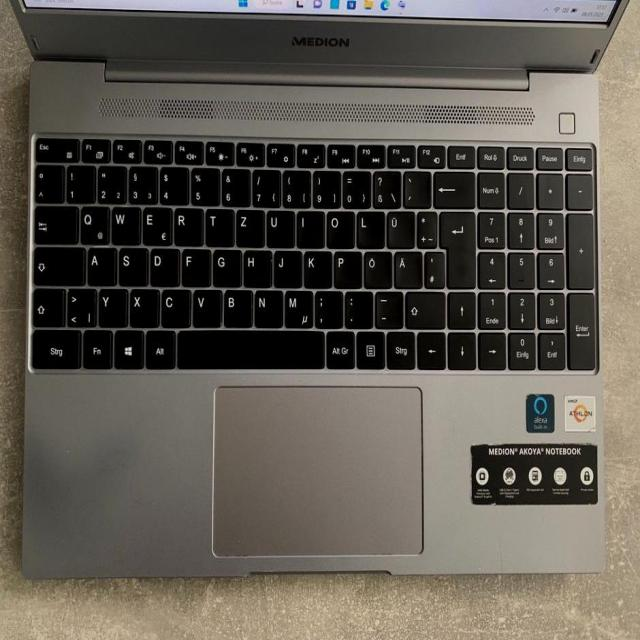0: (340, 167, 368, 206)
1: (64, 161, 93, 201)
2: (95, 162, 125, 201)
3: (126, 162, 155, 202)
4: (157, 163, 187, 202)
5: (189, 164, 217, 203)
6: (220, 165, 248, 204)
7: (250, 166, 278, 206)
8: (280, 167, 308, 206)
9: (311, 167, 339, 207)
a: (84, 243, 114, 284)
accent: (401, 167, 428, 205)
ae: (392, 247, 420, 286)
alt-left: (142, 326, 174, 367)
altgr-right: (324, 327, 353, 367)
b: (221, 286, 251, 326)
c: (158, 285, 189, 325)
caret: (32, 160, 61, 201)
comma: (312, 287, 340, 326)
d: (147, 244, 177, 285)
del: (431, 167, 472, 205)
e: (140, 203, 170, 243)
enter: (437, 207, 474, 286)
f: (178, 245, 208, 284)
g: (210, 245, 238, 284)
h: (240, 247, 269, 285)
hash: (422, 247, 442, 286)
i: (294, 207, 322, 245)
j: (271, 246, 299, 285)
k: (301, 247, 329, 286)
keyboard: (23, 127, 601, 377)
l: (331, 247, 359, 286)
less: (64, 284, 94, 326)
m: (281, 286, 311, 326)
minus: (372, 287, 400, 326)
n: (251, 286, 280, 326)
o: (323, 207, 352, 246)
oe: (361, 247, 389, 286)
p: (354, 207, 382, 246)
plus: (415, 206, 434, 245)
point: (342, 287, 370, 326)
q: (77, 202, 107, 243)
r: (171, 204, 201, 244)
s: (115, 244, 145, 284)
shift-left: (29, 284, 62, 326)
shift-lock: (31, 242, 82, 284)
shift-right: (403, 287, 443, 326)
space: (175, 327, 322, 367)
ss: (371, 167, 399, 206)
strg-left: (27, 326, 80, 368)
strg-right: (384, 328, 413, 367)
t: (203, 205, 231, 244)
tab: (31, 201, 76, 242)
u: (264, 207, 292, 246)
ue: (384, 207, 413, 246)
v: (190, 285, 219, 325)
w: (108, 202, 138, 243)
x: (127, 285, 157, 325)
y: (96, 285, 125, 326)
z: (234, 206, 262, 245)
